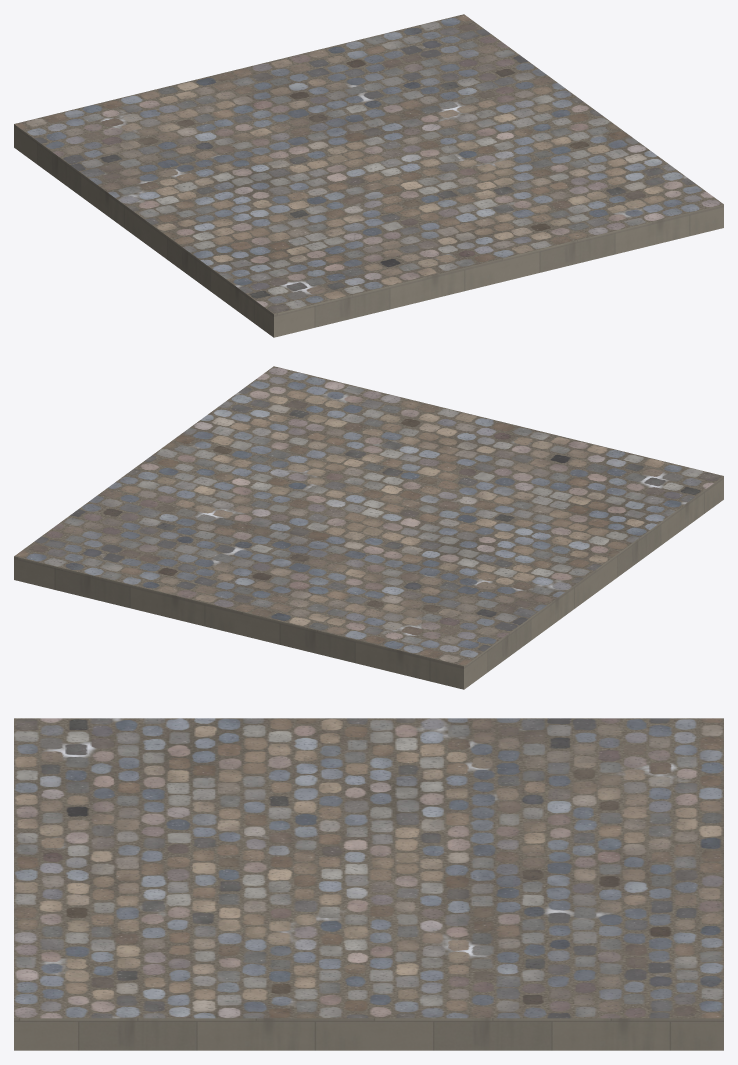
File: ground_cobbles.glb
3 renders of one model, top to bottom at view 1: azimuth 30°, elevation 25°; view 2: azimuth 150°, elevation 25°; view 3: azimuth 270°, elevation 25°, orthographic. The views are drawn at different scales.
Visible parts, largest first — view 1: ground_cobbles; view 2: ground_cobbles; view 3: ground_cobbles.
Boxes of the visible parts, left/top/right/bottom form: ground_cobbles: left=14, top=14, right=723, bottom=337; ground_cobbles: left=14, top=366, right=723, bottom=689; ground_cobbles: left=14, top=718, right=723, bottom=1050.
Size of what is drawn, in the model's own units: 4 by 0.2038 by 4.
Materials: 2 (2 with a texture image).
